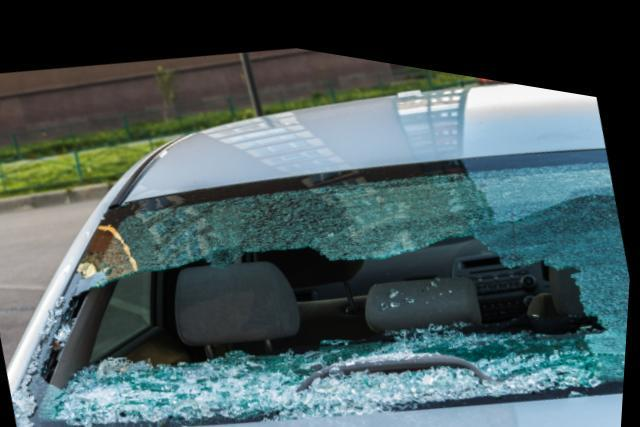glass shatter: (17, 130, 632, 427)
